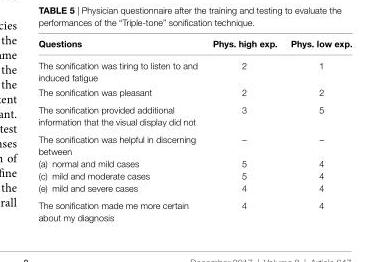table: (37, 37, 351, 222)
table column: (37, 37, 204, 222), (204, 37, 283, 222), (283, 37, 351, 222)
table column header: (37, 37, 351, 53)
table row: (37, 53, 351, 84), (37, 100, 351, 129), (37, 129, 351, 156), (37, 195, 351, 222), (37, 37, 351, 53), (37, 84, 351, 100), (37, 181, 351, 195), (37, 168, 351, 181), (37, 156, 351, 168)
